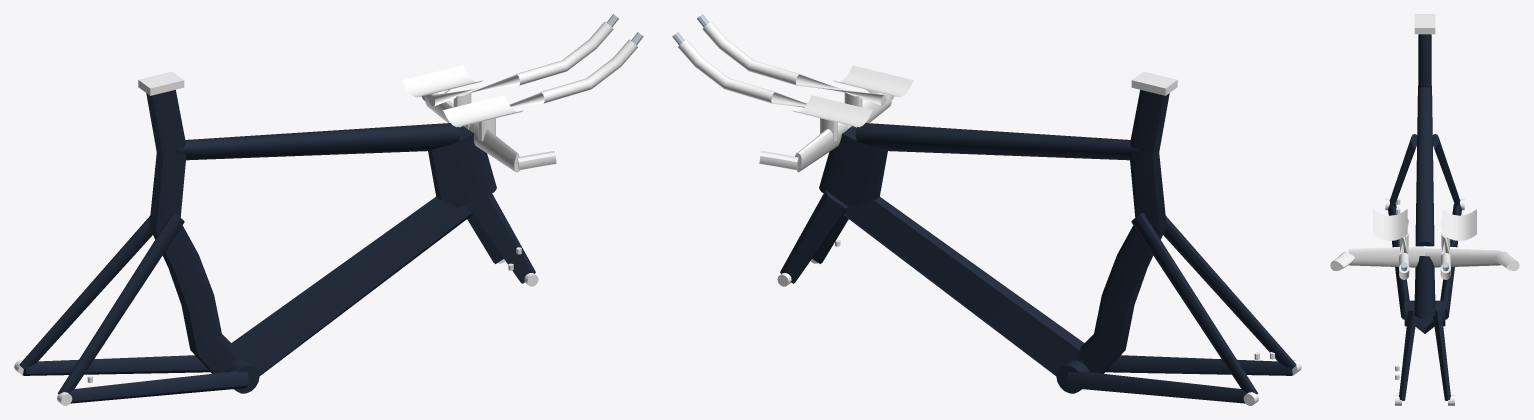
The model's file is frame_tt.glb.
3 views of the same model, side by side, from view 1: azimuth 30°, elevation 25°; view 2: azimuth 150°, elevation 25°; view 3: azimuth 270°, elevation 25° (orthographic). The views are drawn at different scales.
Parts seen in each view (by area): view 1: Bike_TT_Frameset; view 2: Bike_TT_Frameset; view 3: Bike_TT_Frameset.
Part boxes in pixels (x1,y1,x2,y2): Bike_TT_Frameset: (14,14,643,405); Bike_TT_Frameset: (672,14,1301,405); Bike_TT_Frameset: (1330,14,1519,405).
Bounding box in the file's own units: 1.26 × 0.6657 × 0.4094.
